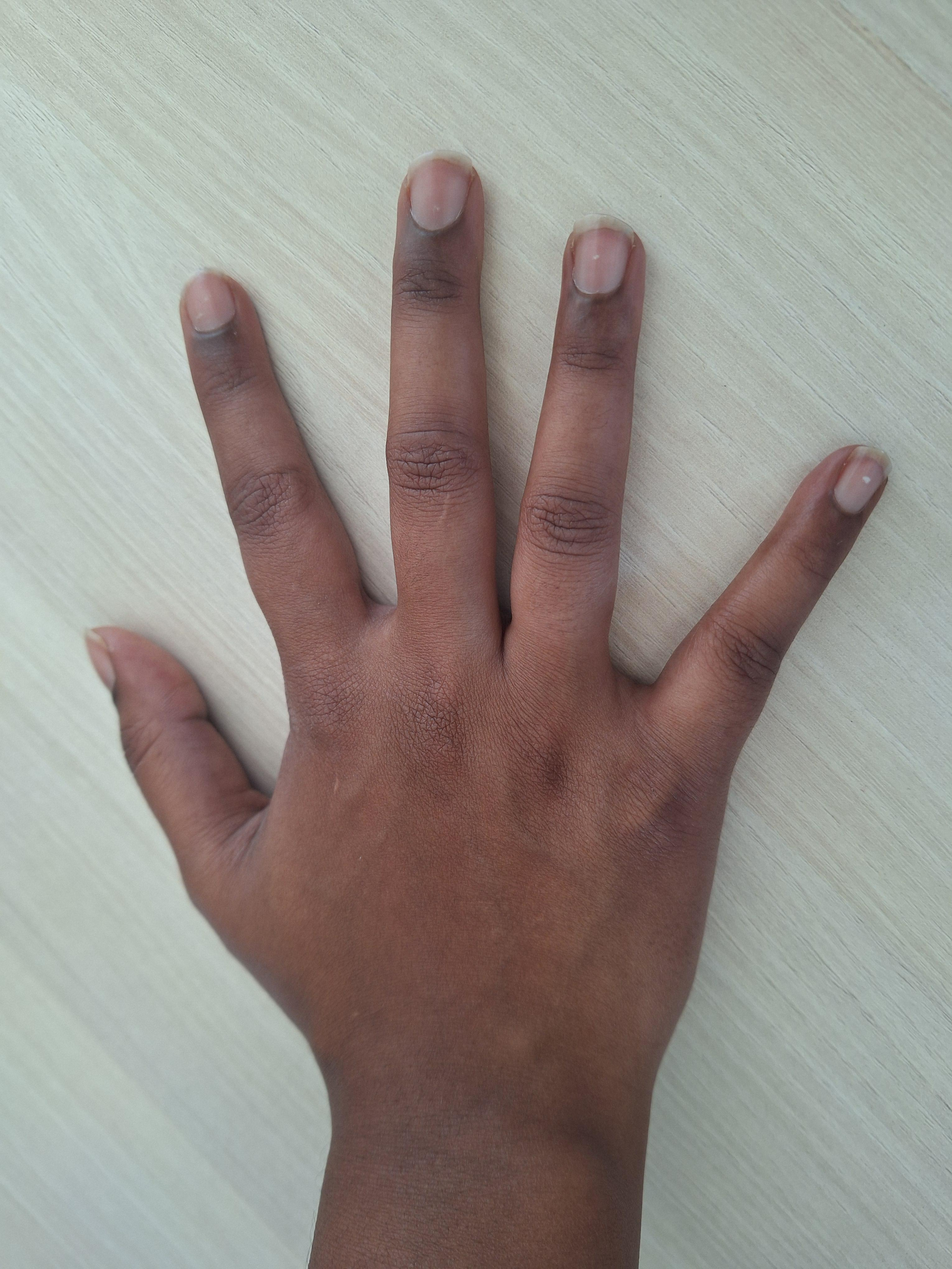Fingernail: (408, 150, 472, 230), (573, 214, 634, 293), (834, 446, 893, 514), (183, 270, 235, 332), (85, 627, 116, 696)
